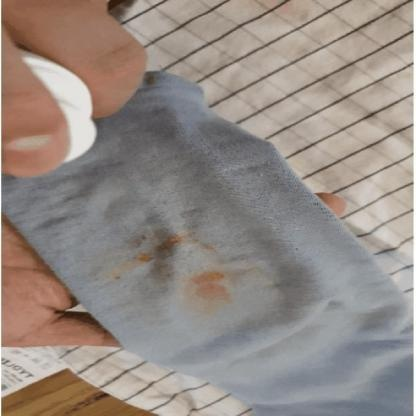kimchi: (191, 262, 229, 312), (107, 253, 157, 284), (150, 235, 179, 262), (126, 229, 149, 252), (198, 239, 220, 258)
